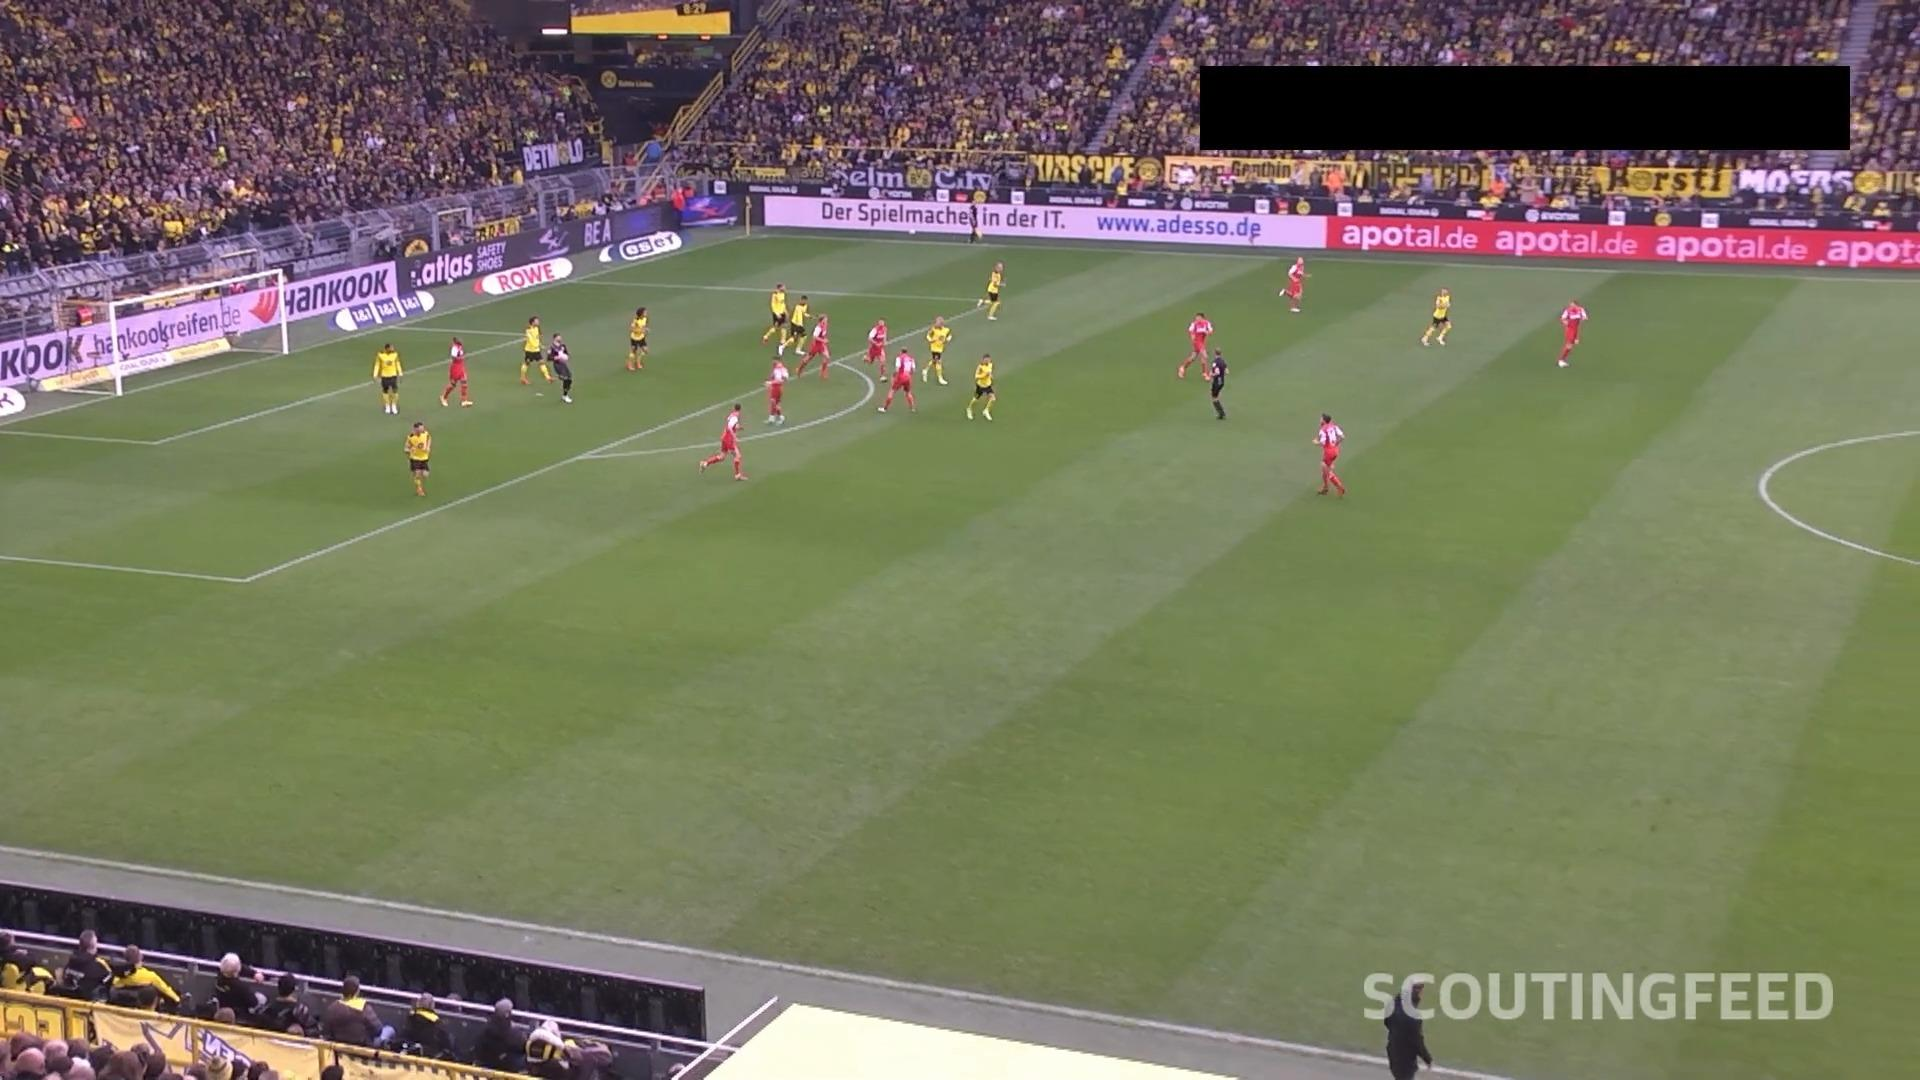coach: (1381, 972, 1434, 1078)
player: (697, 402, 748, 481), (1312, 412, 1345, 496), (876, 347, 917, 413), (1176, 310, 1213, 380), (794, 312, 831, 379), (518, 315, 553, 385), (438, 336, 472, 407), (371, 341, 402, 415), (920, 314, 952, 384), (1556, 298, 1587, 367), (965, 352, 996, 421), (760, 281, 790, 352), (403, 420, 431, 496), (545, 332, 574, 402), (1420, 286, 1452, 346), (762, 357, 788, 424), (785, 292, 812, 356), (977, 260, 1005, 321), (1278, 255, 1307, 312), (625, 305, 650, 371), (864, 317, 889, 382)
referee: (1204, 346, 1229, 419), (966, 199, 985, 247)
